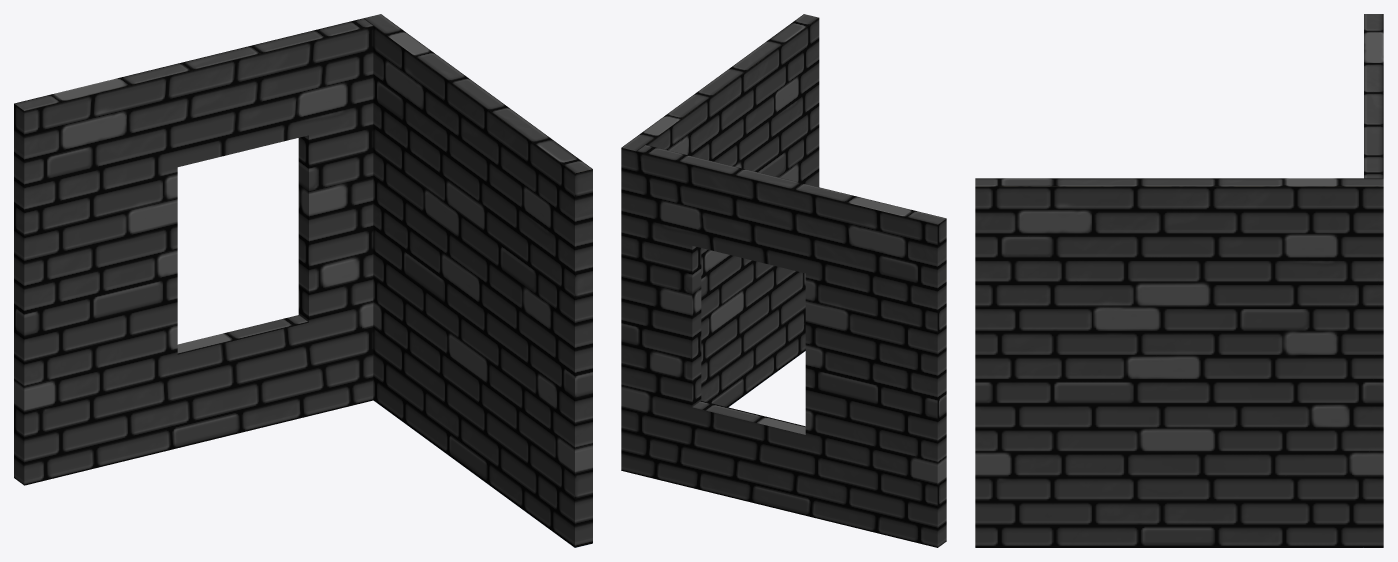
File: Wall_3_Corner_D.fbx
The picture shows the model from 3 angles, left to right: view 1: azimuth 30°, elevation 25°; view 2: azimuth 150°, elevation 25°; view 3: azimuth 270°, elevation 25°; orthographic projection. The views are drawn at different scales.
Visible parts, largest first — view 1: polySurface21; view 2: polySurface21; view 3: polySurface21.
Part boxes in pixels (bbox=[...]): polySurface21: bbox=[14, 14, 592, 547]; polySurface21: bbox=[621, 14, 946, 547]; polySurface21: bbox=[975, 14, 1383, 547].
Bounding box in the file's own units: 4.1 × 4 × 4.1.
